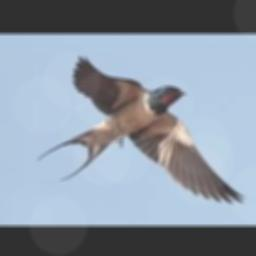Swallow: (39, 55, 246, 203)
